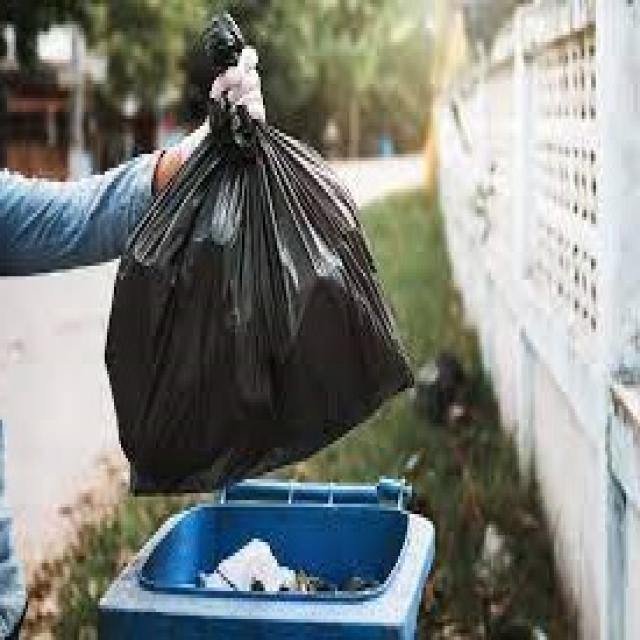sampah-detection: (101, 3, 417, 503), (178, 536, 315, 594)
